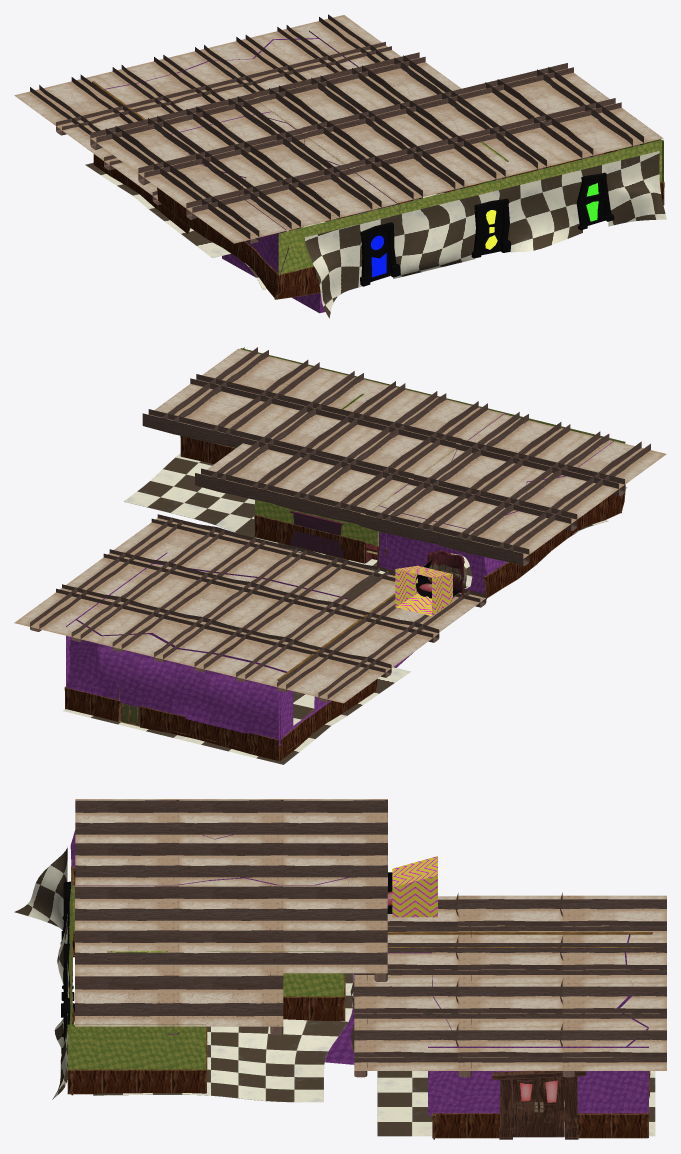
The model's file is Branch_room.fbx.
The picture shows the model from 3 angles, top to bottom: view 1: azimuth 30°, elevation 25°; view 2: azimuth 150°, elevation 25°; view 3: azimuth 270°, elevation 25°; orthographic projection. The views are drawn at different scales.
Visible parts, largest first — view 1: main, door9, door10, door; view 2: main, group8_pPlane41; view 3: main, polySurface1148, doorhandle4.
Part boxes in pixels (x1=…): main: x1=14, y1=14, x2=666, y2=318; door9: x1=480, y1=206, x2=503, y2=255; door10: x1=367, y1=231, x2=390, y2=282; door: x1=583, y1=179, x2=605, y2=225; main: x1=14, y1=347, x2=666, y2=764; group8_pPlane41: x1=427, y1=550, x2=466, y2=582; main: x1=14, y1=799, x2=666, y2=1139; polySurface1148: x1=539, y1=1077, x2=564, y2=1137; doorhandle4: x1=513, y1=1078, x2=538, y2=1137.
Bounding box in the file's own units: 3585 × 1427 × 4333.
Materials: 20 (18 with a texture image).
